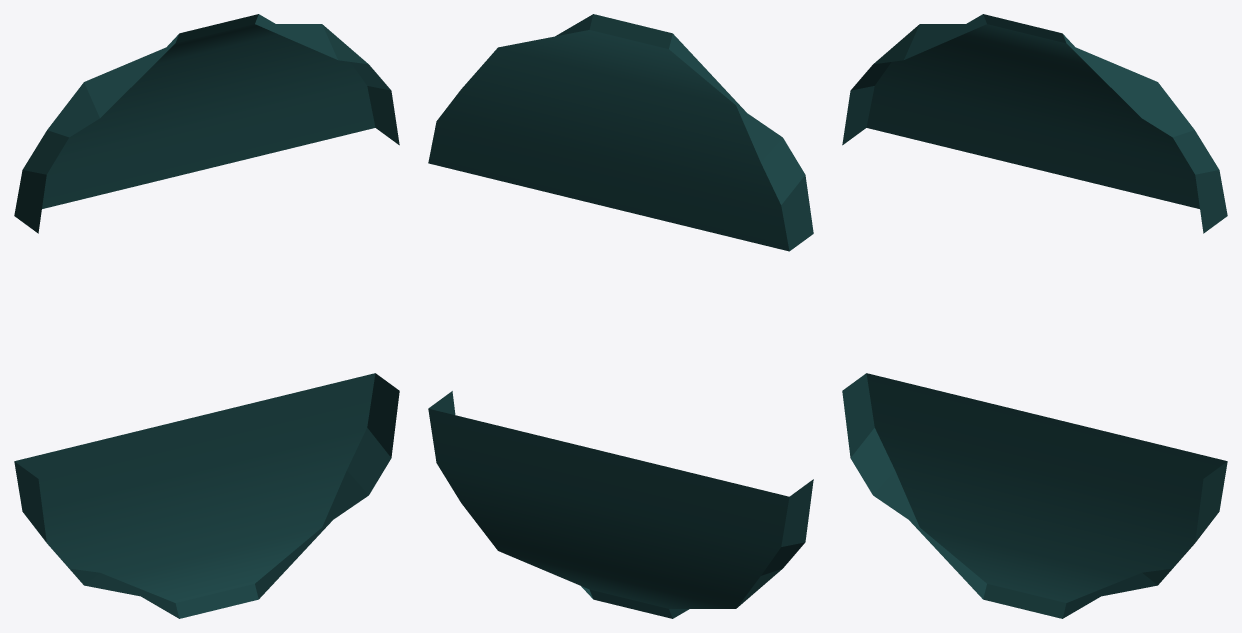
The model's file is OutsideCorridor_05.fbx.
The picture shows the model from 3 angles, left to right: view 1: azimuth 30°, elevation 25°; view 2: azimuth 150°, elevation 25°; view 3: azimuth 330°, elevation 25°; orthographic projection.
Visible parts, largest first — view 1: OutsideCorridor_05; view 2: OutsideCorridor_05; view 3: OutsideCorridor_05.
Part boxes in pixels (x1,y1,x2,y2): OutsideCorridor_05: [14, 14, 399, 618]; OutsideCorridor_05: [428, 14, 813, 618]; OutsideCorridor_05: [842, 14, 1227, 618].
Bounding box in the file's own units: 239 × 27.8 × 370.
